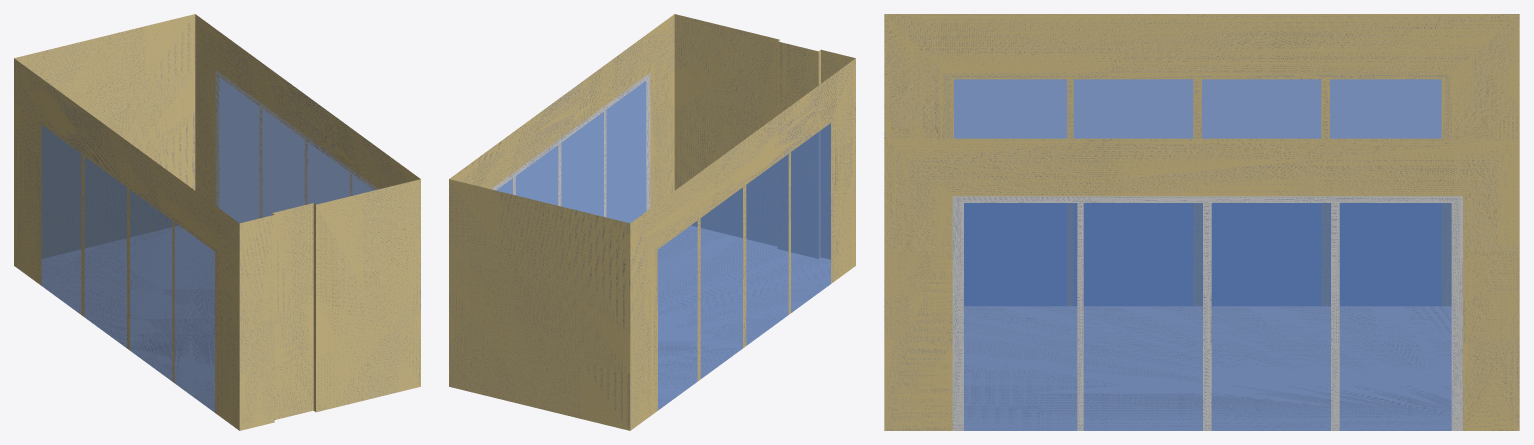
Rendered from COM018.obj.
3 views of the same model, side by side, from view 1: azimuth 30°, elevation 25°; view 2: azimuth 150°, elevation 25°; view 3: azimuth 270°, elevation 25° (orthographic). The views are drawn at different scales.
Parts seen in each view (by area): view 1: Mesh1 Group1 Model; view 2: Mesh1 Group1 Model; view 3: Mesh1 Group1 Model.
Boxes of the visible parts, bbox=[...] form: Mesh1 Group1 Model: bbox=[14, 14, 420, 430]; Mesh1 Group1 Model: bbox=[449, 14, 855, 430]; Mesh1 Group1 Model: bbox=[884, 14, 1519, 430].
Size of the model in its own units: 2.72 by 2.98 by 5.86.
6 materials, 2 textured.
